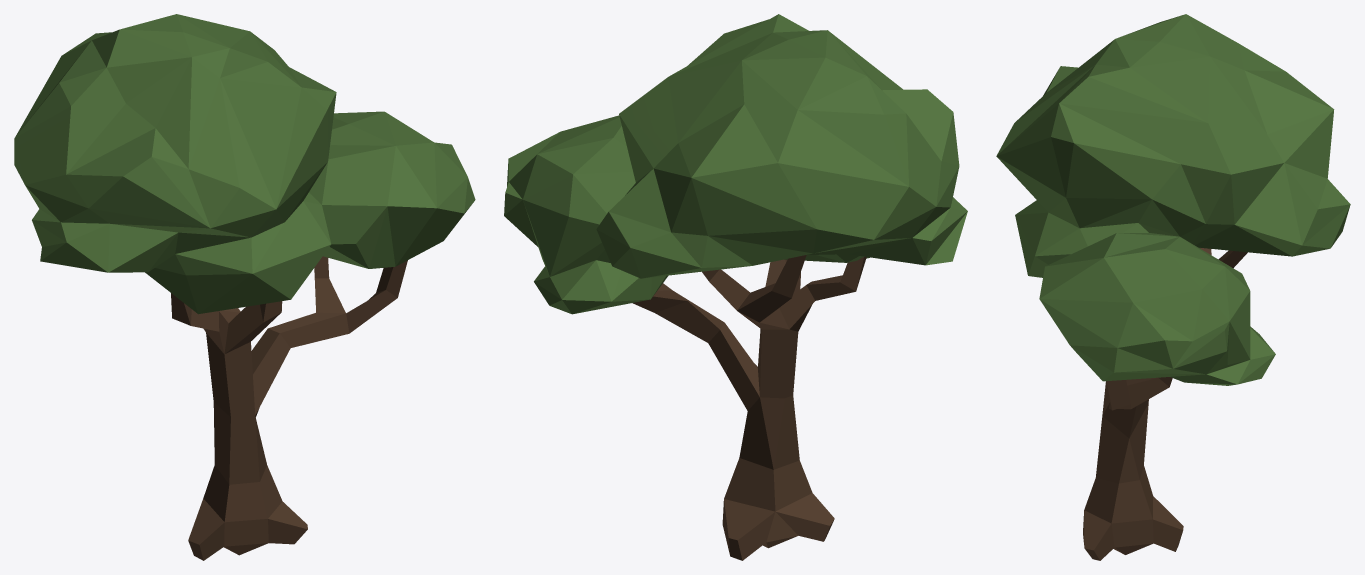
Rendered from SM_Env_Tree_Apricot_01.glb.
3 renders of one model, left to right at view 1: azimuth 30°, elevation 25°; view 2: azimuth 150°, elevation 25°; view 3: azimuth 270°, elevation 25°, orthographic. The views are drawn at different scales.
Visible parts, largest first — view 1: SM_Env_Tree_Apricot_01; view 2: SM_Env_Tree_Apricot_01; view 3: SM_Env_Tree_Apricot_01.
Part boxes in pixels (left/top/right/bottom): SM_Env_Tree_Apricot_01: left=14, top=14, right=475, bottom=560; SM_Env_Tree_Apricot_01: left=504, top=14, right=967, bottom=560; SM_Env_Tree_Apricot_01: left=996, top=14, right=1350, bottom=560.
Bounding box in the file's own units: 4.11 × 4.87 × 3.12.
1 material, 1 textured.
